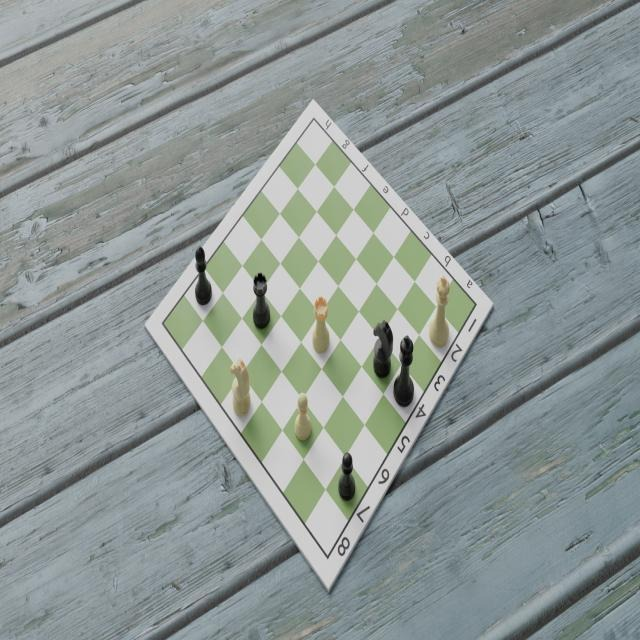black-bishop: (193, 244, 213, 307)
black-king: (392, 335, 416, 413)
black-knight: (371, 319, 393, 385)
black-pawn: (339, 451, 357, 503)
black-rook: (252, 270, 271, 331)
white-king: (428, 274, 451, 350)
white-knight: (230, 358, 251, 420)
white-pawn: (292, 392, 312, 446)
white-rook: (311, 294, 333, 356)
